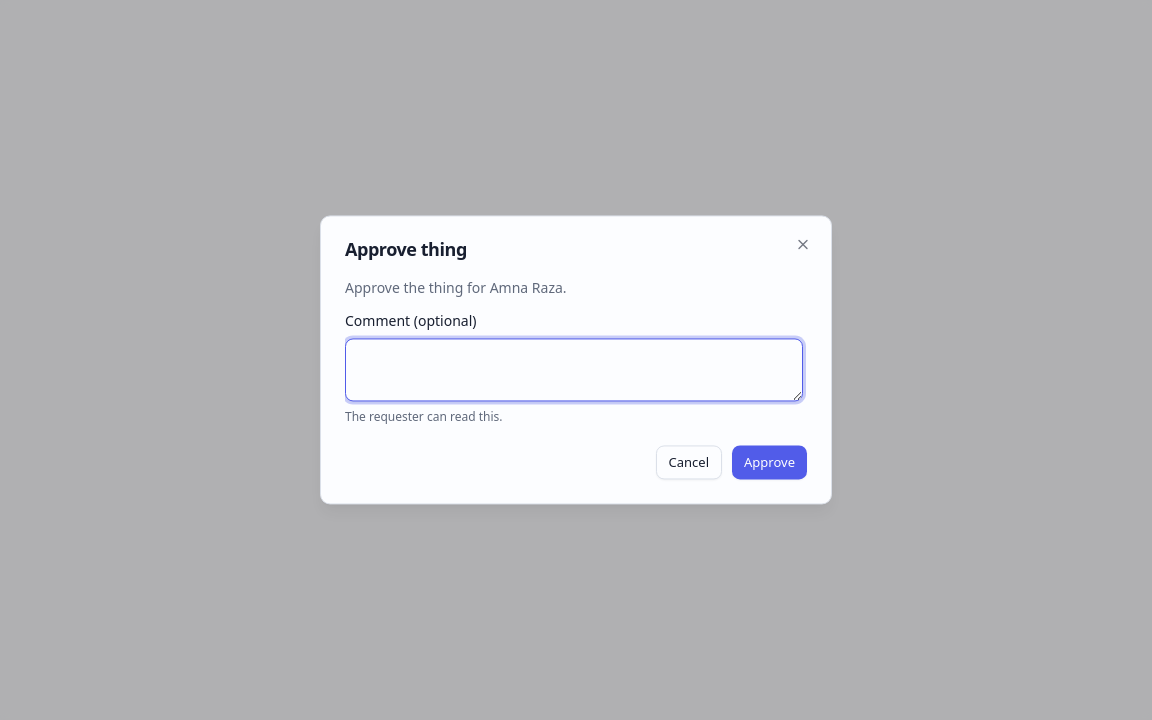
Test case: DecisionDialog › shows a server error on the note under its input
Click the button "Approve". click: click(770, 463)
box: [732, 446, 807, 480]
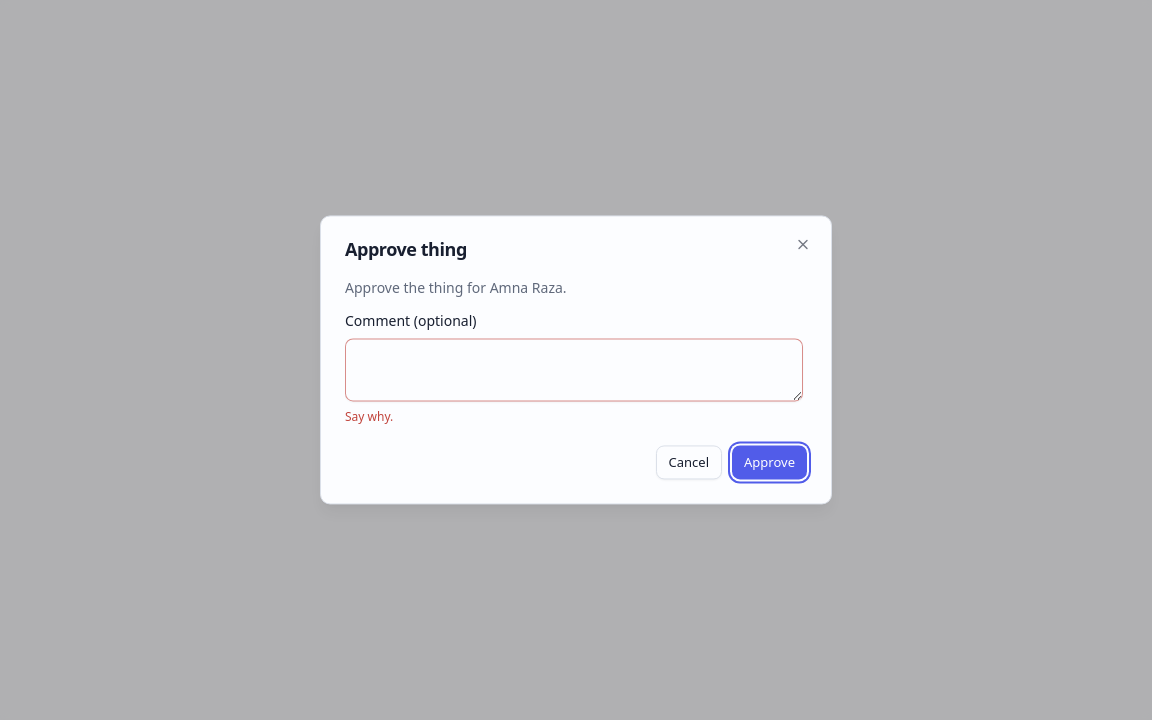
Result: the text "Say why." is shown at [345, 409, 393, 426]
